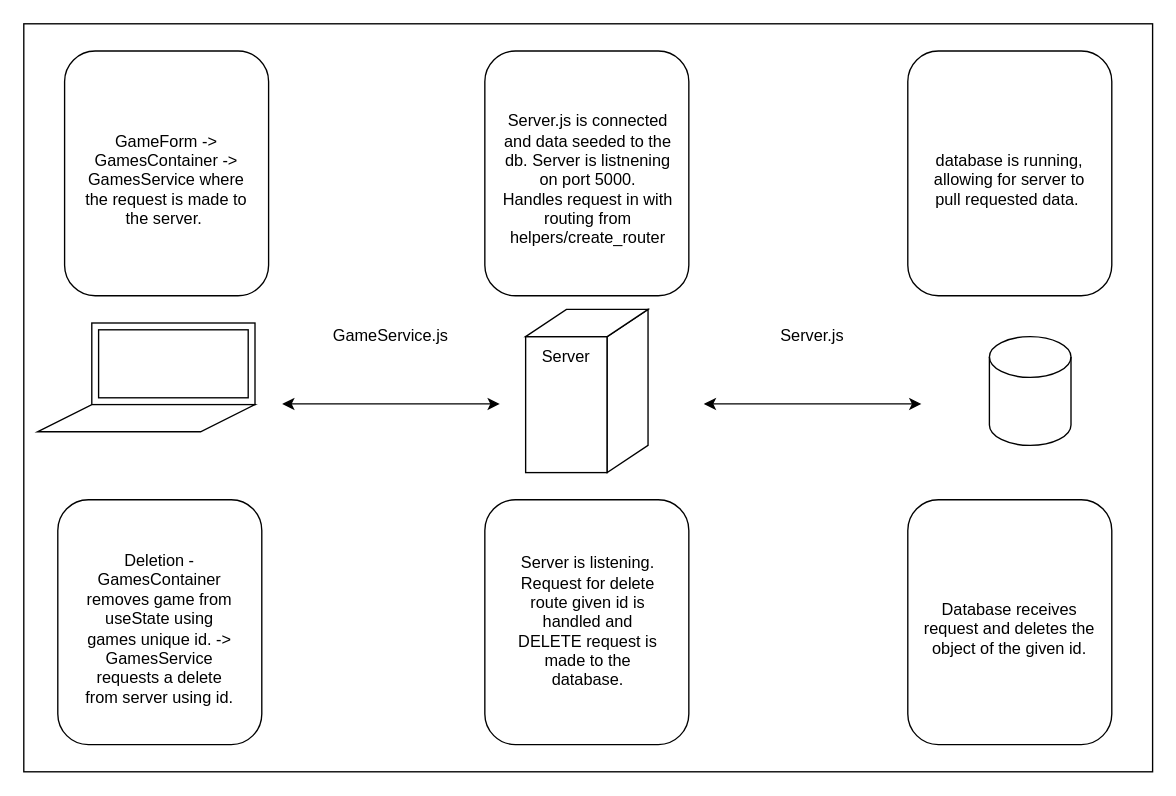
This 1176x796 diagram has some shape labels left out. Each missing label, with the centre of its shape:
"Client" belongs at point (172, 363).
"db" belongs at point (1029, 390).
